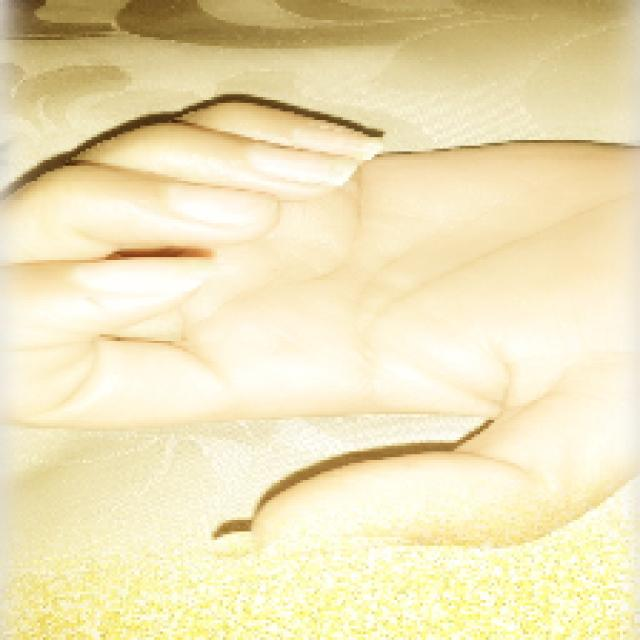Nail: (71, 259, 210, 296), (169, 185, 276, 228), (249, 145, 356, 186), (300, 120, 382, 160)
